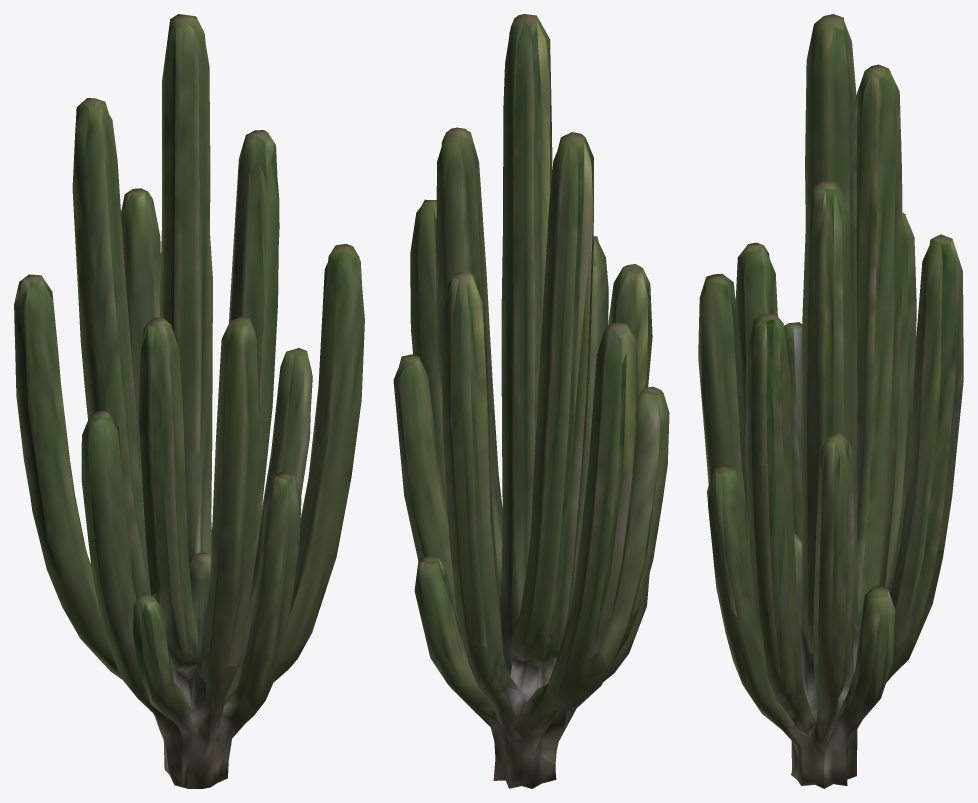
Rendered from organ_pipe.glb.
3 views of the same model, side by side, from view 1: azimuth 30°, elevation 25°; view 2: azimuth 150°, elevation 25°; view 3: azimuth 270°, elevation 25° (orthographic).
Visible parts, largest first — view 1: LO.001; view 2: LO.001; view 3: LO.001.
Part boxes in pixels (x1=…): LO.001: x1=14, y1=14, x2=364, y2=788; LO.001: x1=393, y1=14, x2=669, y2=788; LO.001: x1=698, y1=14, x2=963, y2=788.
Size of the model in its own units: 1.76 by 4.49 by 1.43.
Materials: 1 (1 with a texture image).
